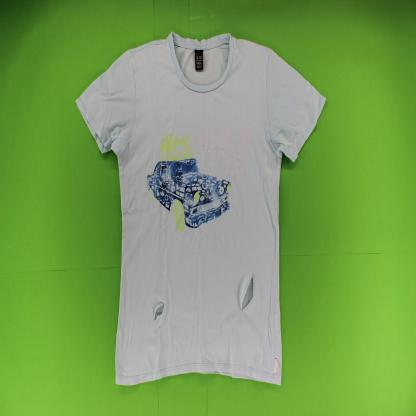hole: (241, 273, 254, 312), (153, 301, 165, 323)
